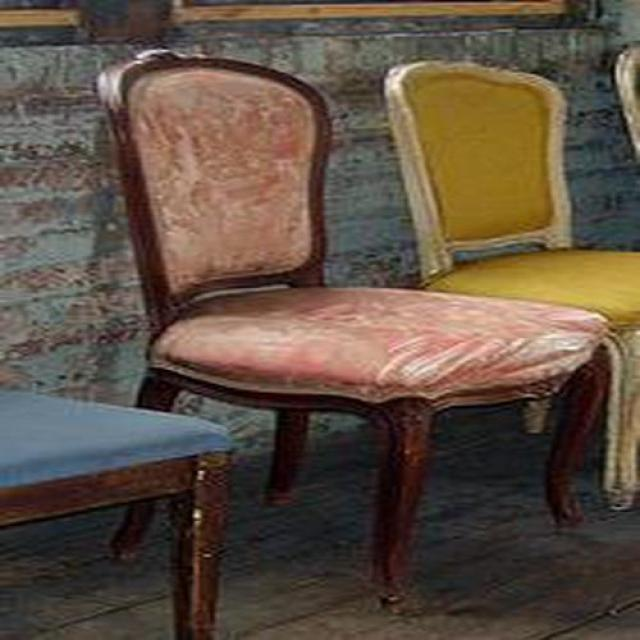chair: (96, 52, 617, 612), (385, 61, 640, 507)
